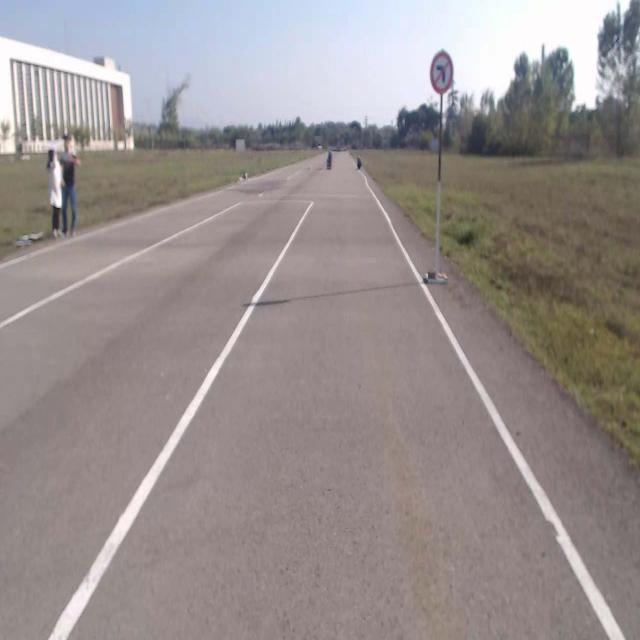soladonulmez: (430, 50, 453, 91)
